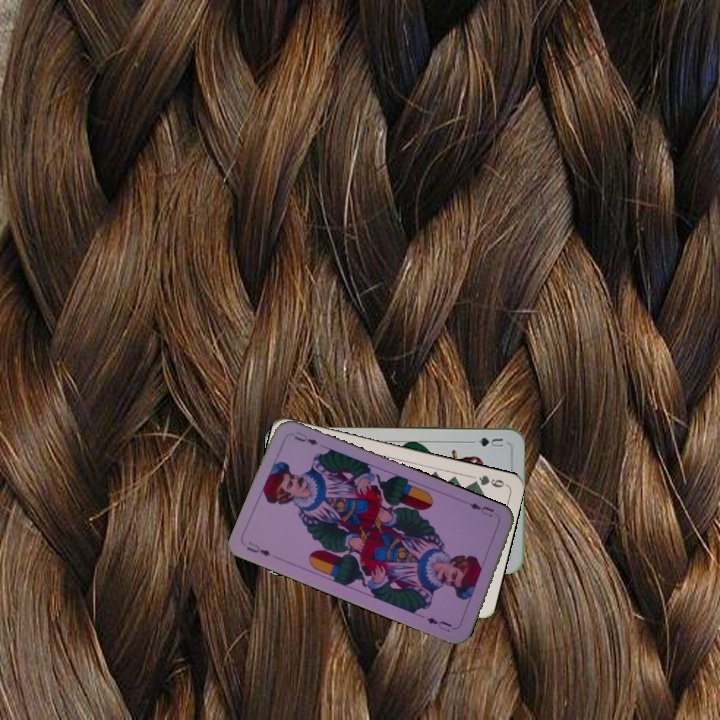EU: (465, 499, 497, 520), (242, 538, 273, 559)
G9: (467, 471, 509, 490)
GU: (474, 433, 506, 449)
